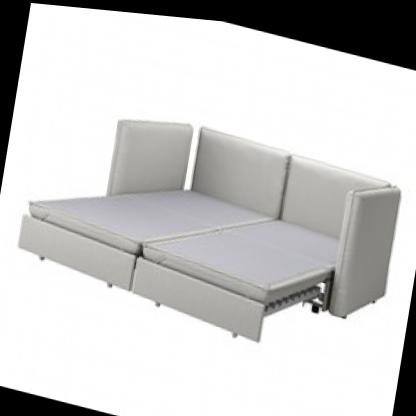Sofa: (4, 60, 407, 373)
